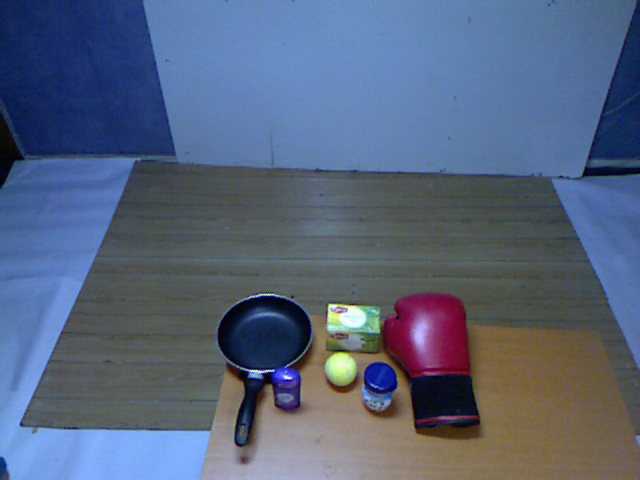crema: (359, 360, 400, 416)
desodorante: (266, 363, 306, 418)
guante: (381, 292, 480, 444)
pelota: (322, 350, 363, 392)
sarten: (211, 292, 318, 449)
te: (320, 297, 387, 360)
